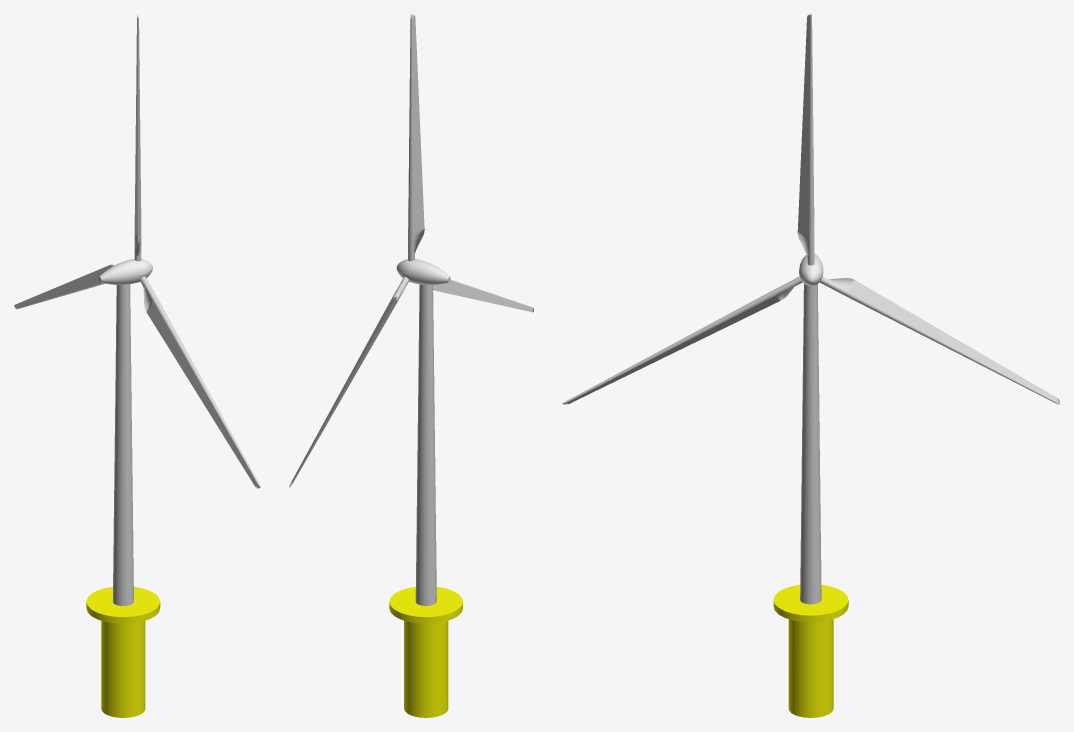
Rendered from WKA-SWT-7-154-HUB110m.gltf.
The picture shows the model from 3 angles, left to right: view 1: azimuth 30°, elevation 25°; view 2: azimuth 150°, elevation 25°; view 3: azimuth 270°, elevation 25°; orthographic projection.
Visible parts, largest first — view 1: SWT-7-154 Socket, SWT-7-154 TOWER, SWT-7-154 ROTOR, SWT-7-154 HUB; view 2: SWT-7-154 Socket, SWT-7-154 TOWER, SWT-7-154 ROTOR, SWT-7-154 HUB; view 3: SWT-7-154 ROTOR, SWT-7-154 Socket, SWT-7-154 TOWER.
Part boxes in pixels (<box>): SWT-7-154 Socket: <box>86,586,160,717</box>; SWT-7-154 TOWER: <box>112,284,133,605</box>; SWT-7-154 ROTOR: <box>14,15,260,488</box>; SWT-7-154 HUB: <box>98,259,139,284</box>; SWT-7-154 Socket: <box>389,586,462,717</box>; SWT-7-154 TOWER: <box>415,284,436,605</box>; SWT-7-154 ROTOR: <box>289,14,533,487</box>; SWT-7-154 HUB: <box>409,259,450,285</box>; SWT-7-154 ROTOR: <box>562,14,1059,404</box>; SWT-7-154 Socket: <box>773,584,848,717</box>; SWT-7-154 TOWER: <box>800,284,821,604</box>.
Bounding box in the file's own units: 20 × 207 × 133.
Materials: 3 (1 with a texture image).
